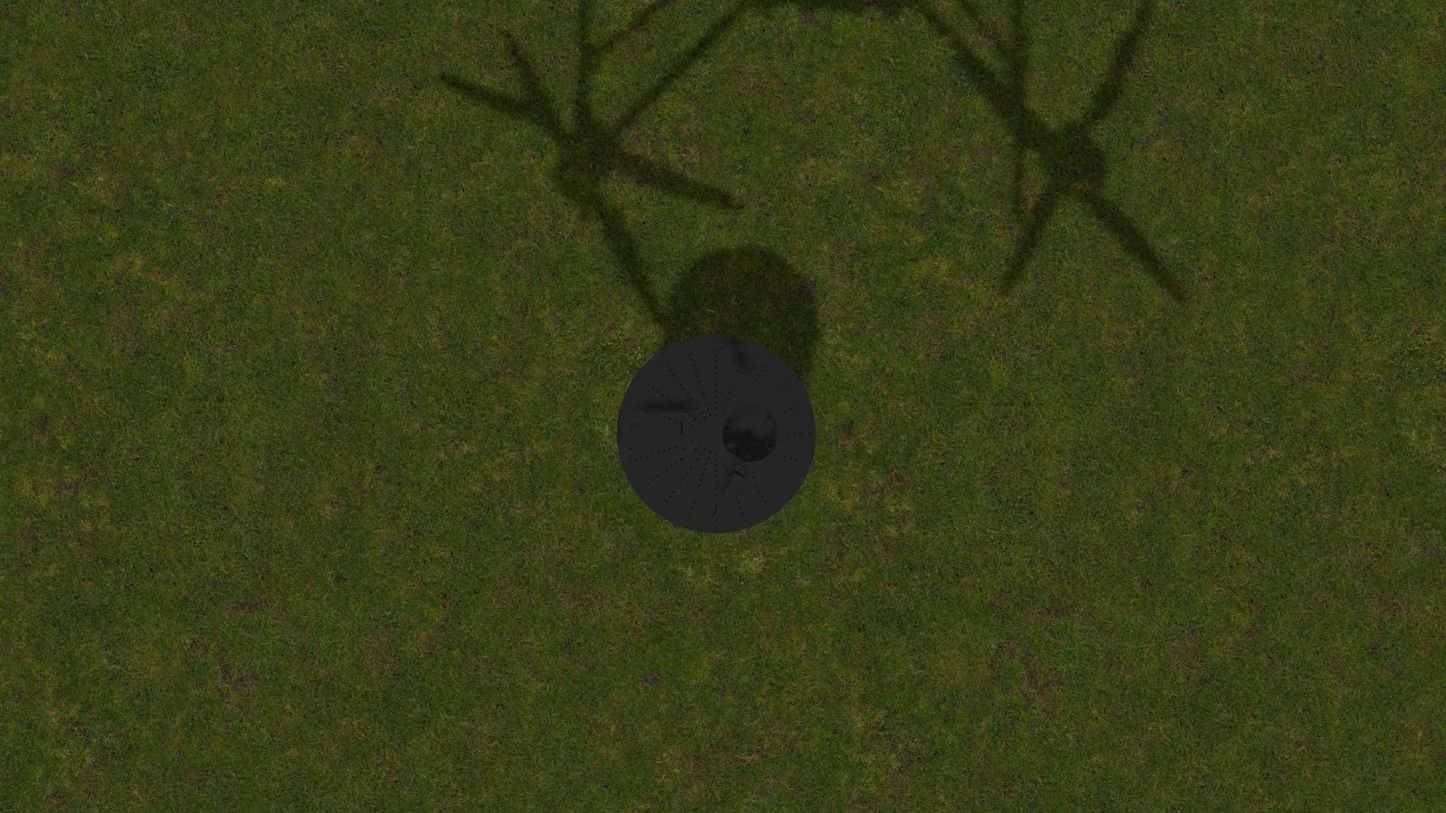alca: (711, 464, 747, 524), (713, 342, 748, 402), (628, 422, 690, 437)
armadilha: (616, 333, 816, 534)
